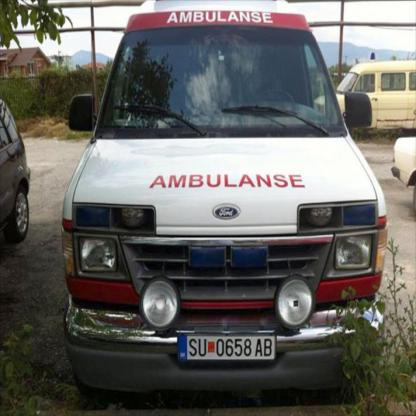Ambulance: (59, 0, 388, 389)
